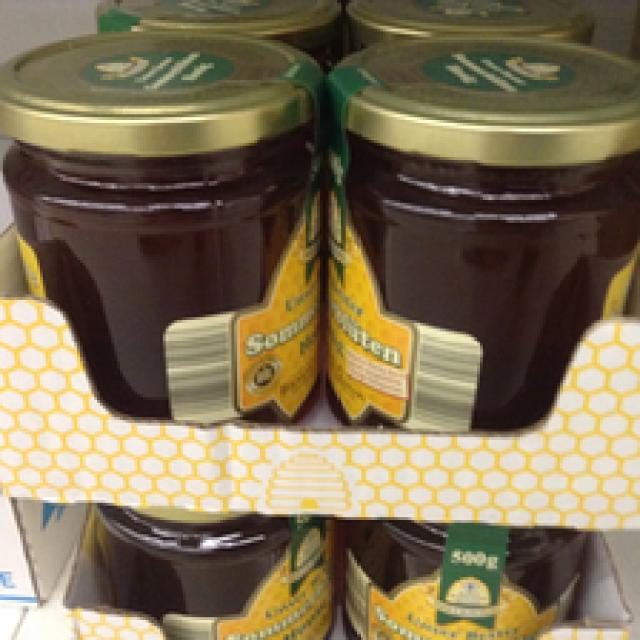groceries: (323, 20, 637, 457), (0, 23, 323, 443)
